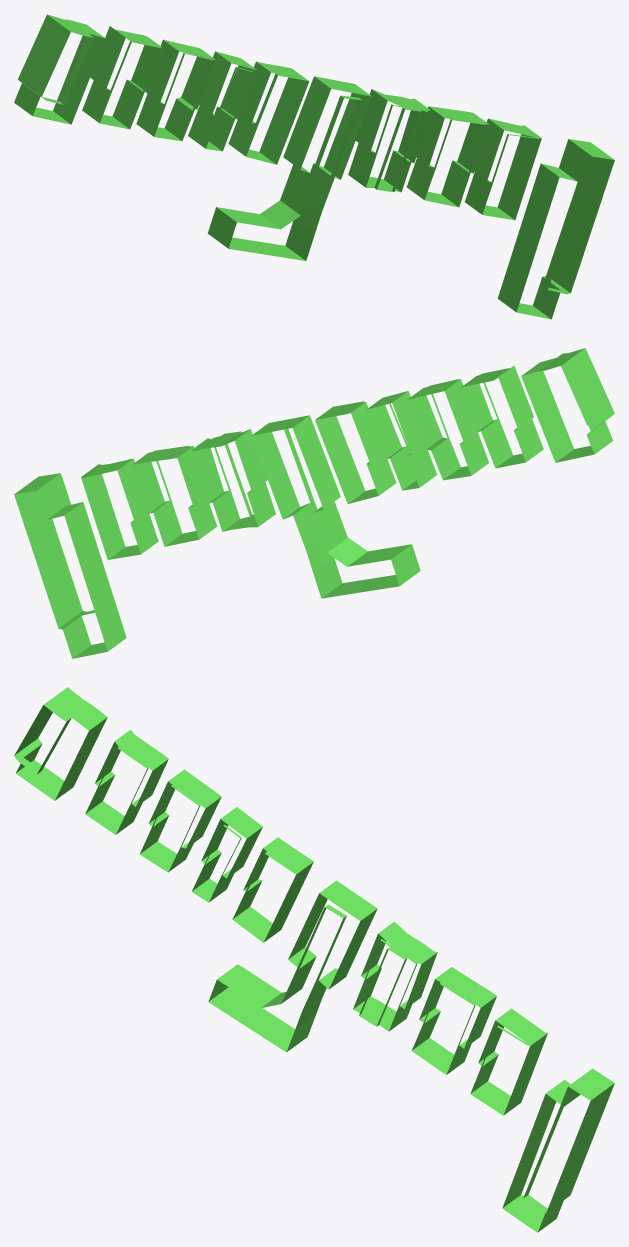
File: Wall_Hini_6.0_Slope_0.5.obj
3 views of the same model, one above another, from view 1: azimuth 30°, elevation 25°; view 2: azimuth 150°, elevation 25°; view 3: azimuth 330°, elevation 25° (orthographic).
Visible parts, largest first — view 1: 6, 1, 2, 4, 10, 5, 8, 9, 3, 7; view 2: 6, 1, 2, 4, 10, 5, 9, 8, 3, 7; view 3: 6, 1, 2, 4, 5, 3, 10, 8, 9, 7.
Part boxes in pixels (x1,y1,x2,y2): 6: [207, 76, 371, 260]; 1: [497, 139, 614, 319]; 2: [14, 14, 105, 124]; 4: [348, 89, 430, 192]; 10: [82, 26, 163, 129]; 5: [407, 106, 489, 207]; 8: [228, 61, 309, 164]; 9: [136, 39, 216, 141]; 3: [465, 118, 541, 220]; 7: [188, 51, 257, 151]; 6: [251, 415, 420, 598]; 1: [14, 473, 126, 658]; 2: [521, 348, 614, 462]; 4: [191, 429, 275, 531]; 10: [460, 365, 543, 468]; 5: [132, 445, 217, 546]; 9: [407, 379, 488, 480]; 8: [315, 401, 396, 503]; 3: [81, 458, 158, 559]; 7: [366, 391, 437, 490]; 6: [208, 880, 377, 1052]; 1: [502, 1068, 614, 1232]; 2: [14, 687, 107, 800]; 4: [353, 921, 437, 1031]; 5: [412, 967, 496, 1074]; 3: [470, 1008, 547, 1115]; 10: [85, 729, 168, 834]; 8: [232, 837, 313, 942]; 9: [140, 769, 221, 872]; 7: [191, 807, 262, 902].
Size of the model in its own units: 136 by 92 by 9.87.
